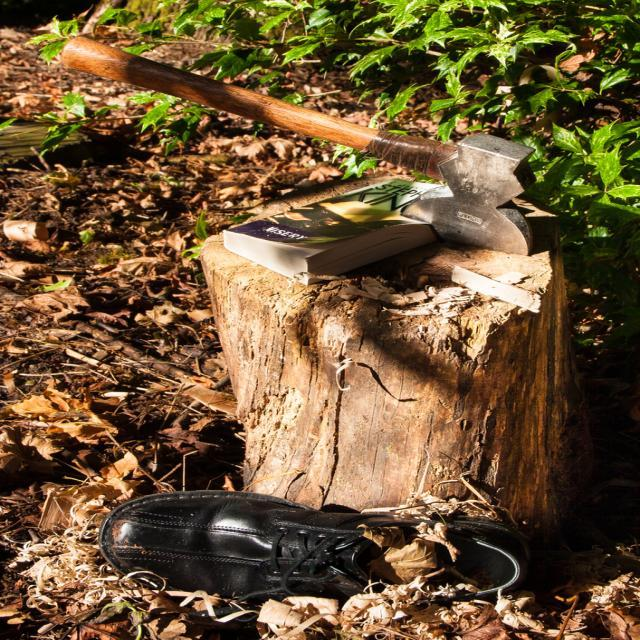Axe: (62, 38, 532, 253)
